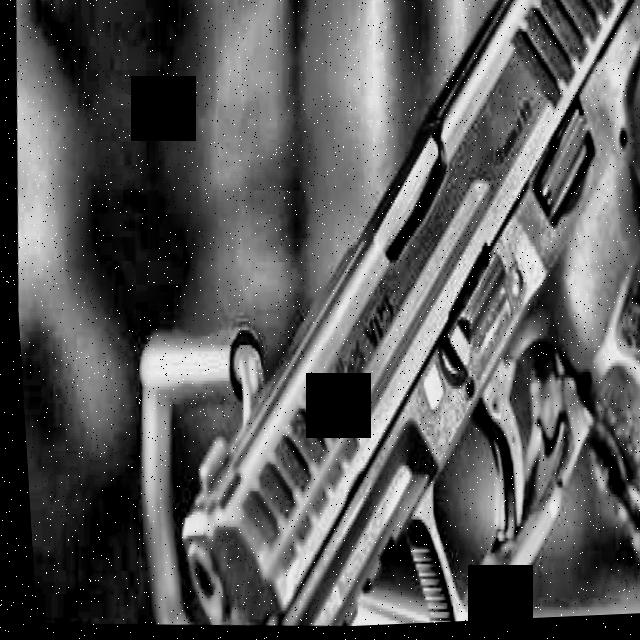Heckler - Koch -H-K-: (177, 0, 640, 629)
